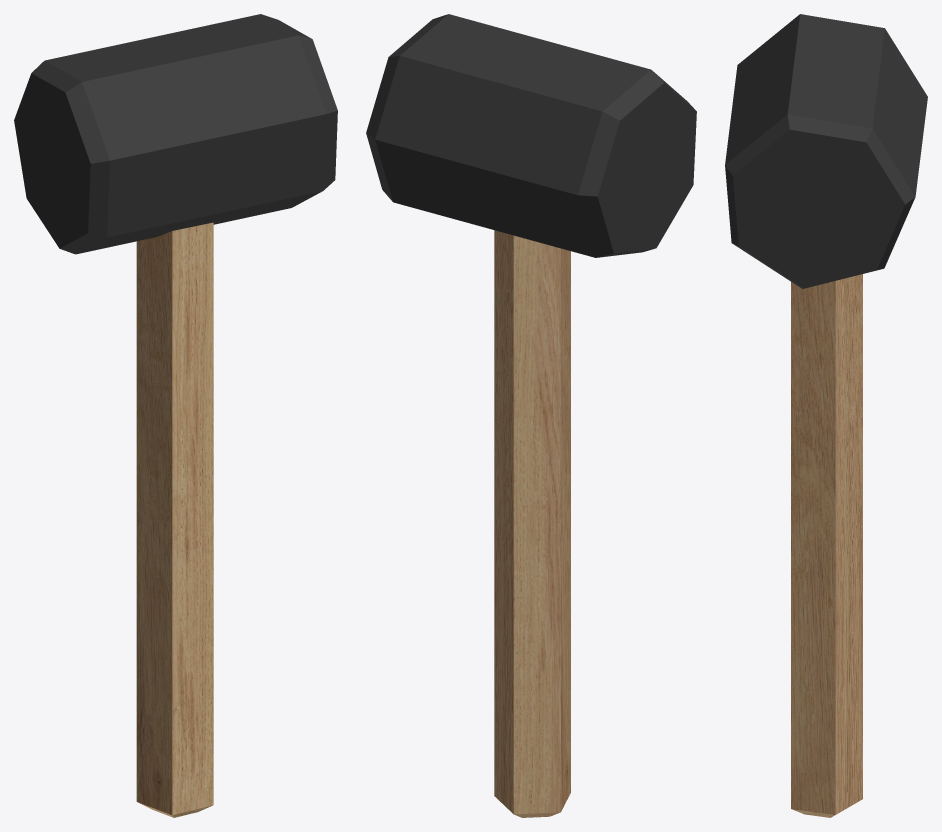
Rendered from Mallet.glb.
The picture shows the model from 3 angles, left to right: view 1: azimuth 30°, elevation 25°; view 2: azimuth 150°, elevation 25°; view 3: azimuth 270°, elevation 25°; orthographic projection. The views are drawn at different scales.
Parts seen in each view (by area): view 1: Striker, Handle; view 2: Striker, Handle; view 3: Striker, Handle.
Part boxes in pixels (box(x1,y1,x2,y2)): Striker: box(14, 14, 337, 254); Handle: box(136, 222, 213, 817); Striker: box(366, 14, 696, 257); Handle: box(494, 230, 570, 817); Striker: box(725, 14, 927, 288); Handle: box(791, 274, 862, 817).
Bounding box in the file's own units: 1.43 × 4.15 × 1.03.
Materials: 2 (1 with a texture image).
